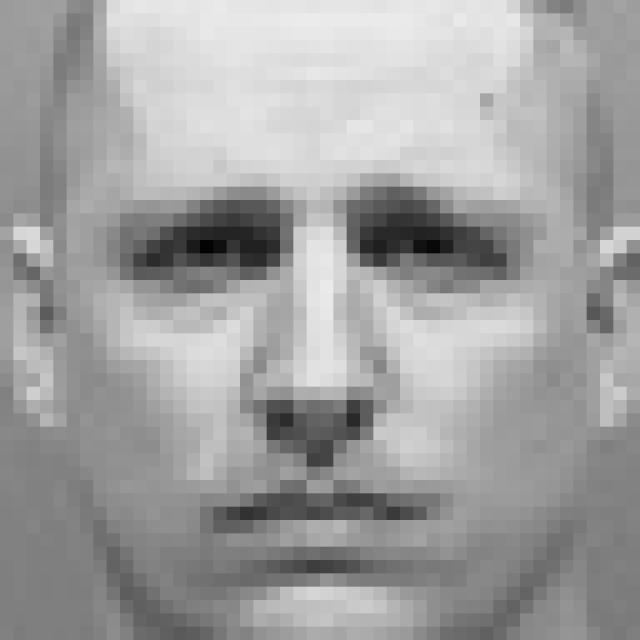neutral: (107, 175, 539, 582)
